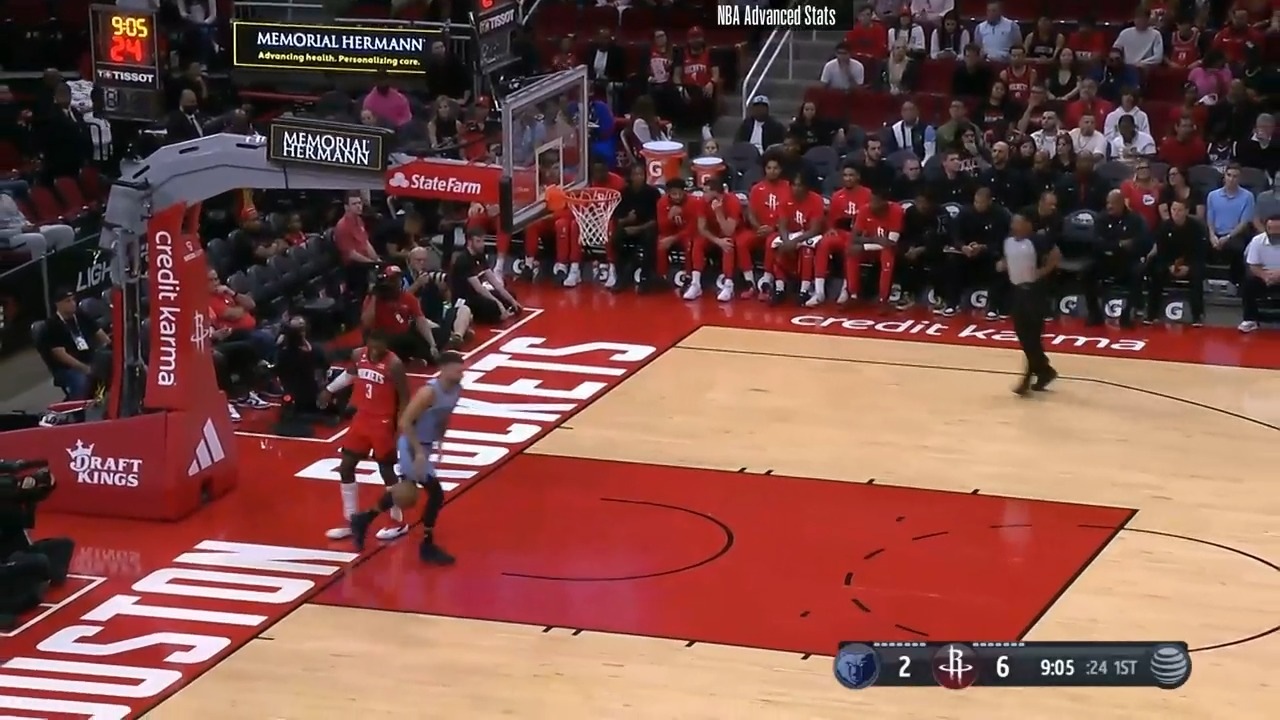net: (544, 174, 628, 258)
player: (325, 326, 424, 557), (373, 350, 473, 574)
referee: (995, 208, 1062, 403)
